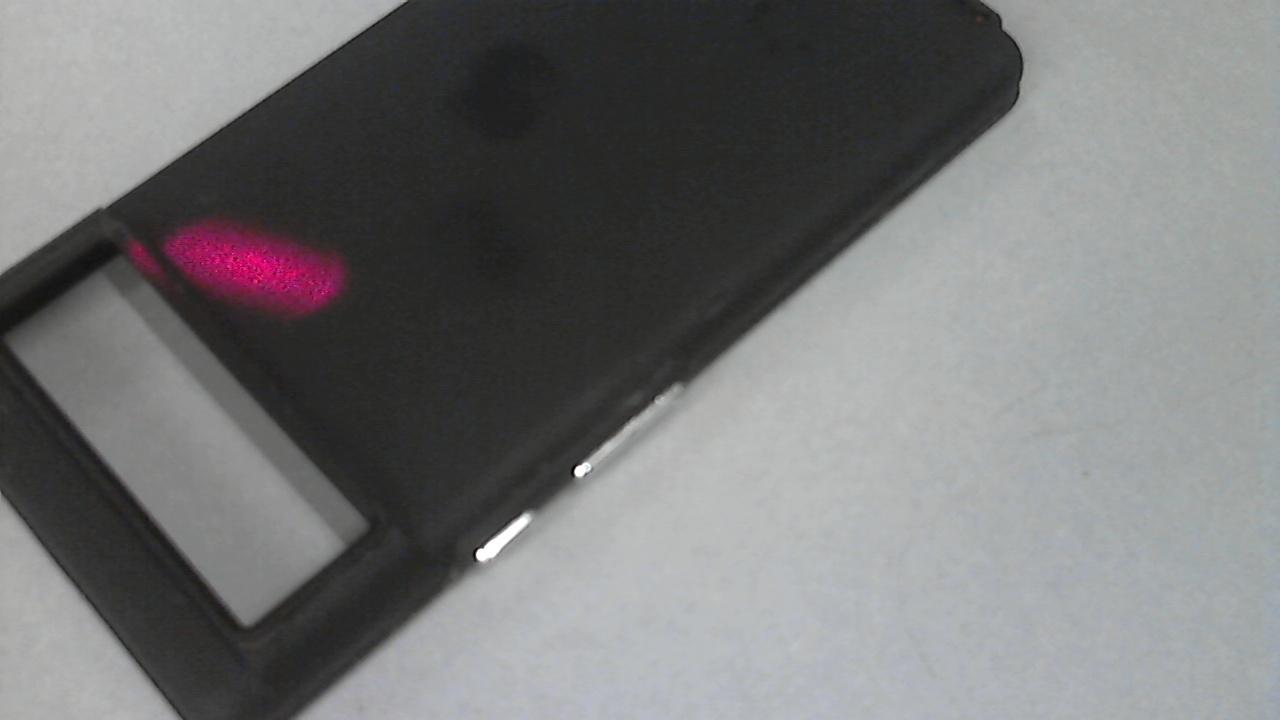Object protective phone case - Material rubber - Pdfname asdfeafgta: (150, 198, 350, 335)
